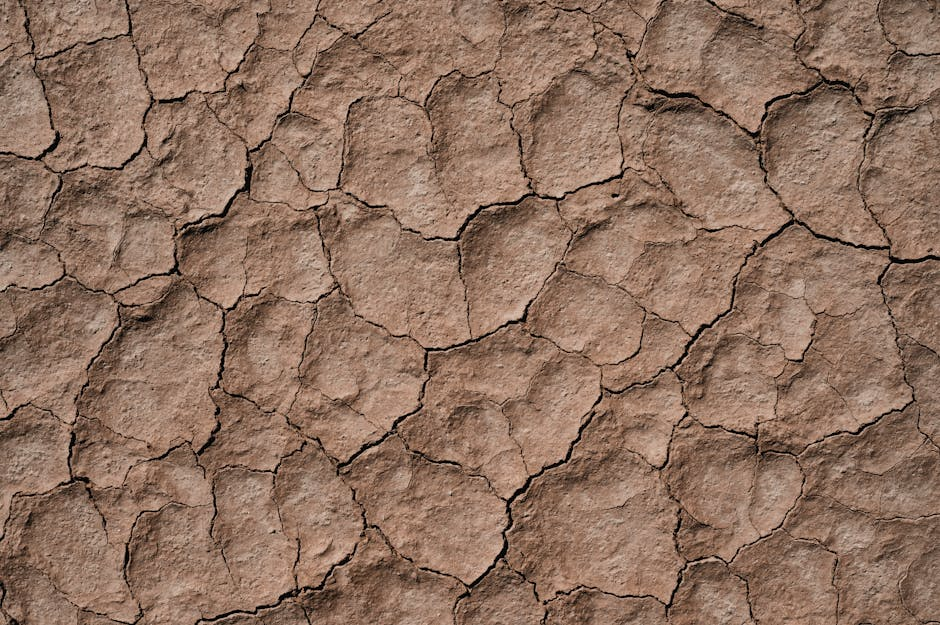细微裂纹: (161, 204, 272, 555), (615, 63, 793, 152), (777, 200, 934, 272)
网状裂隙: (16, 69, 571, 595)
